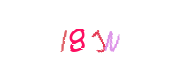8: (42, 0, 122, 80)
I: (39, 0, 119, 80)
J: (50, 0, 130, 80)
N: (59, 0, 139, 80)
